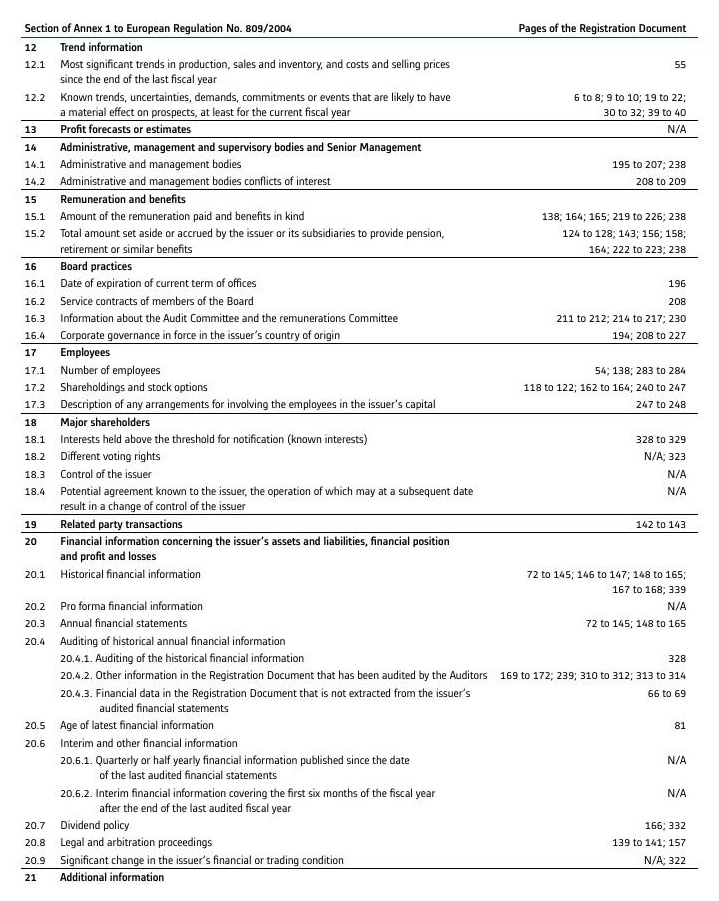table: (0, 0, 719, 901)
